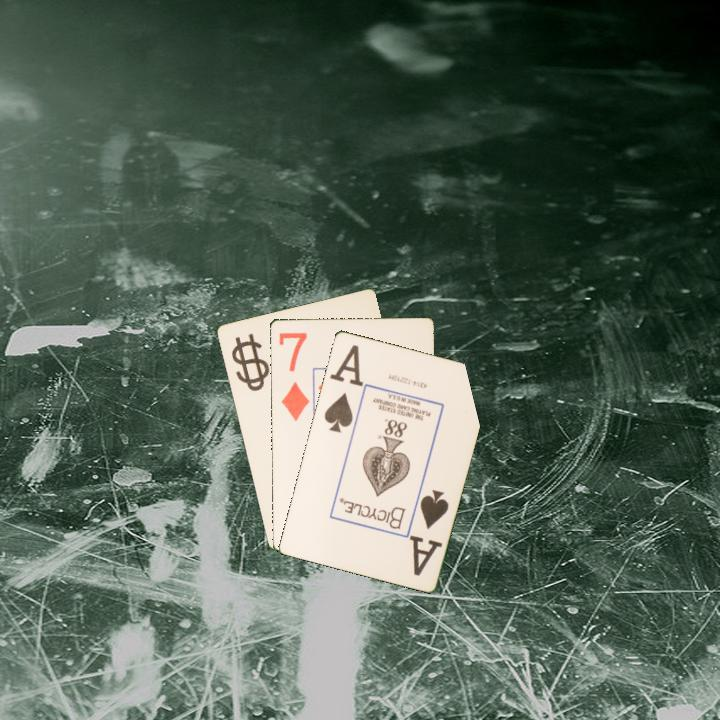7d: (275, 328, 312, 424)
As: (406, 486, 451, 578), (320, 349, 358, 435)
JK: (231, 340, 263, 390)
